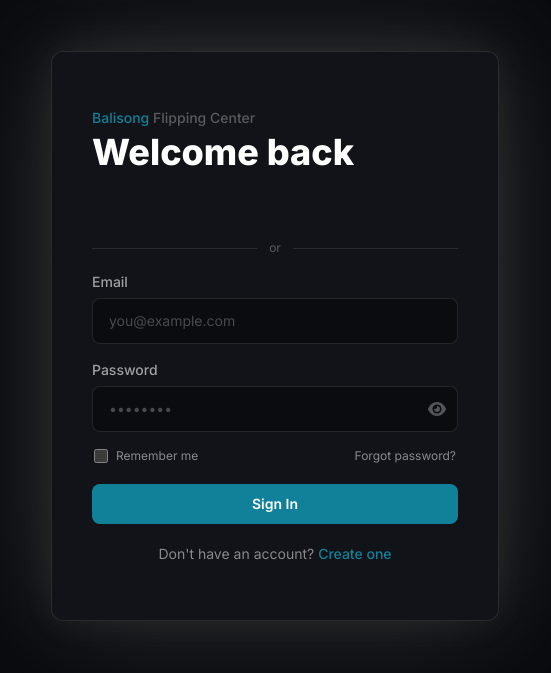
Test case: LoginForm › routes any other error to the generic top-level error banner
Type "user@example.com" into the field with placeholder "you@example.com" at point(275, 321), box [92,298,458,344]
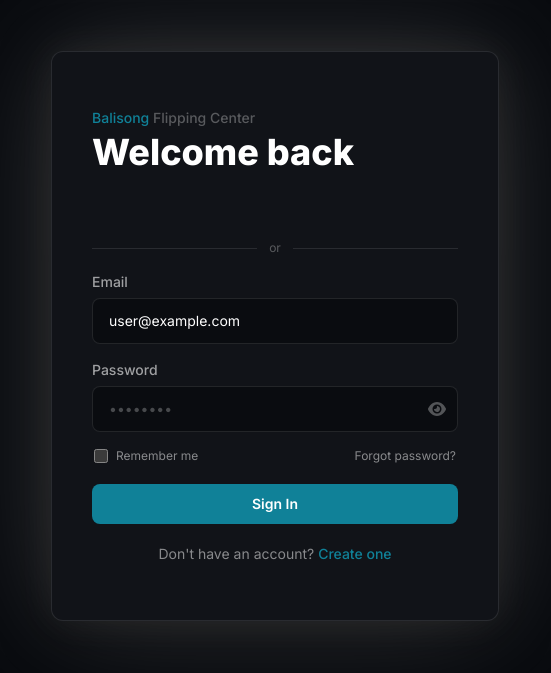
Type "password123" into the password field with placeholder "••••••••" at point(275, 409), box [92,386,458,432]
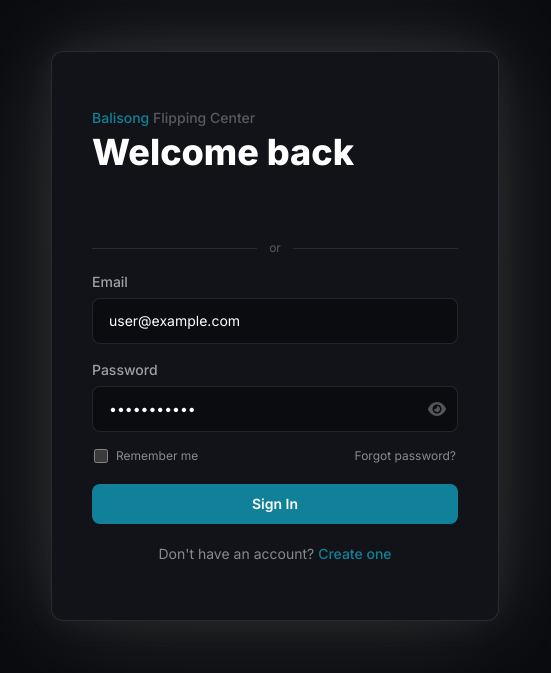
Click the button "Sign In" at point(275, 504), box [92,484,458,524]
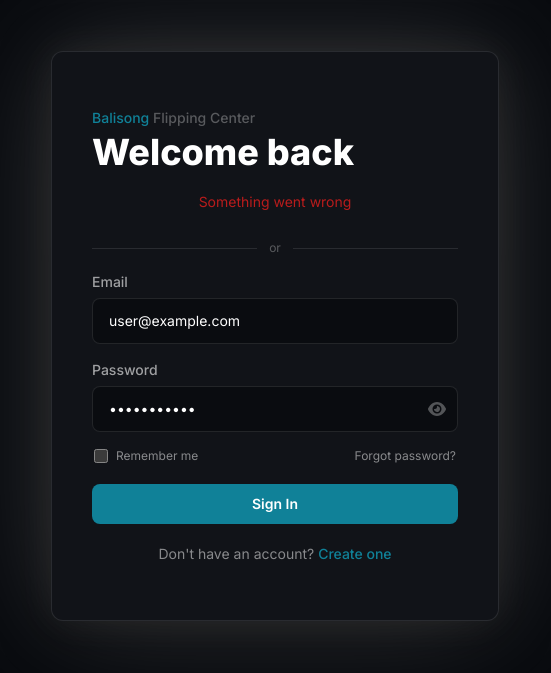
Check: the text "Something went wrong" is shown, box [199,193,351,210]
